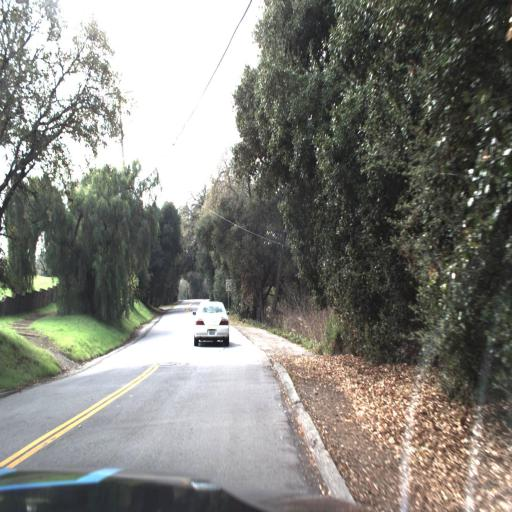car: (186, 294, 235, 352)
